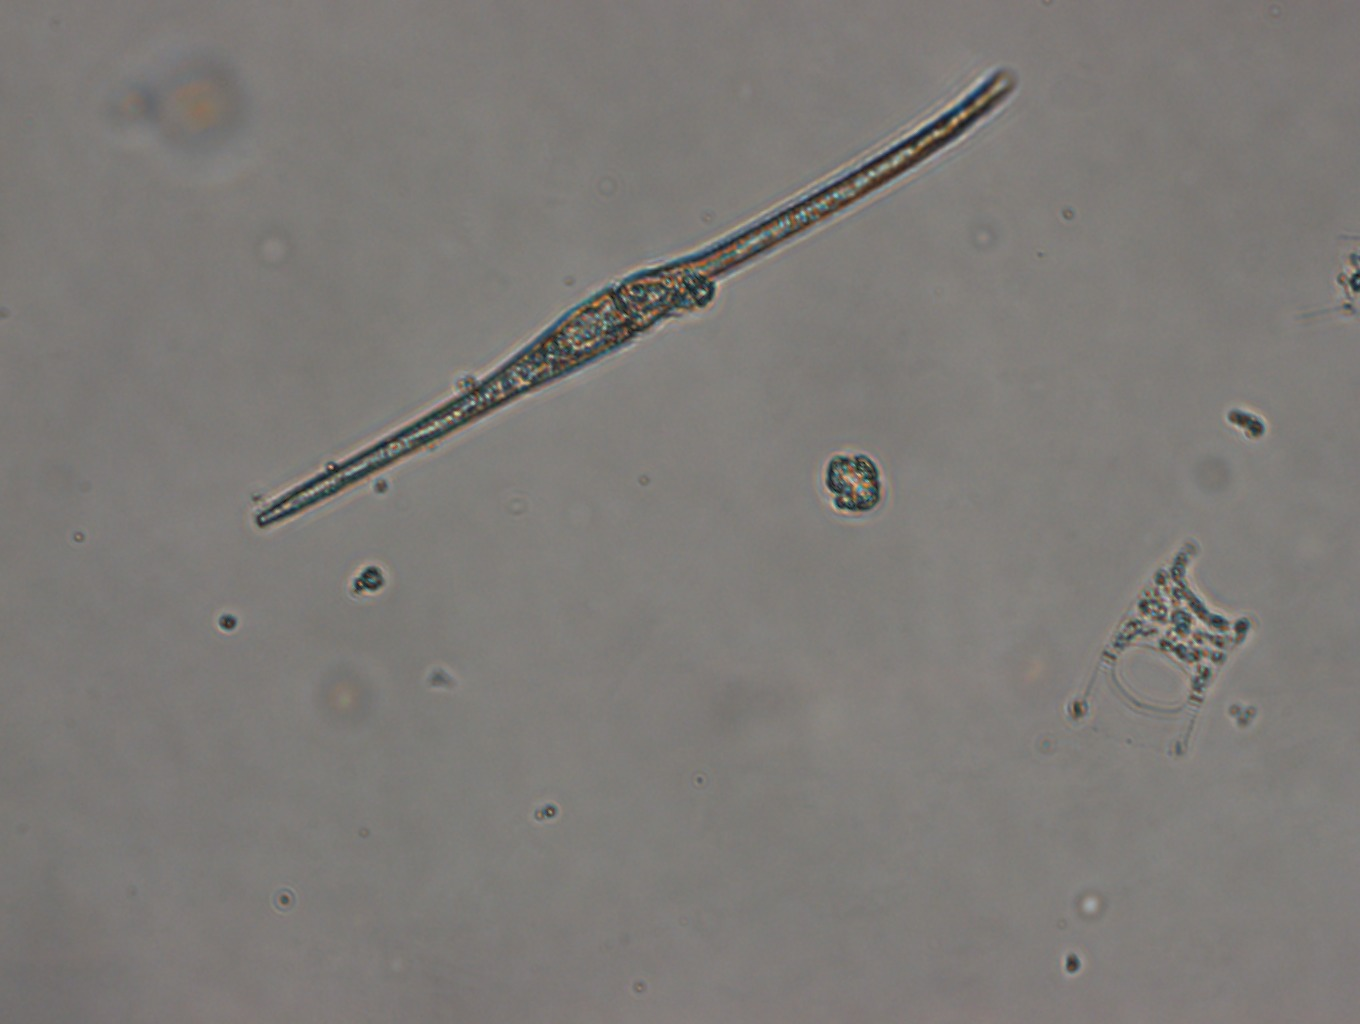ceratium fusus: (249, 67, 1042, 527)
